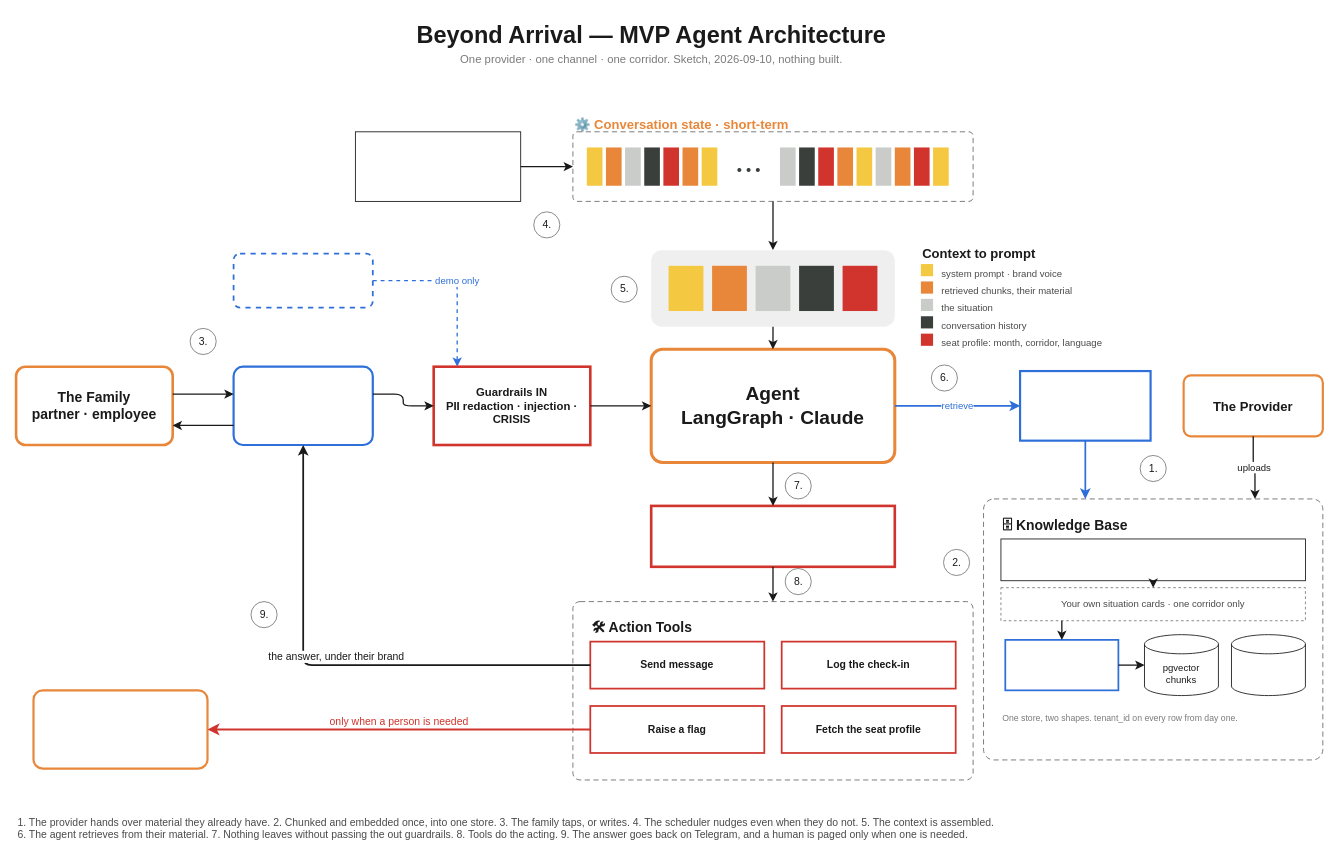
Image size: 1339x860. Some labels were removed from this diagram. The shapes that lost their labels are listed below. From the top down, each one's centre as x and y in pixels, then its label:
At point 438,166: "Scheduler fires at month 3, 6, 9".
At point 302,280: "Browser demo /chat, same app".
At point 302,405: "Telegram the real channel".
At point 1085,405: "RAG Tool top-k, tenant-scoped".
At point 772,536: "Guardrails OUT groundedness · refusal policy".
At point 1152,559: "Their material handbooks · checklists · city guides".
At point 1061,665: "Embedding model".
At point 1268,665: "Postgres seats, log".
At point 120,729: "Their consultant a named human, within SLA".
